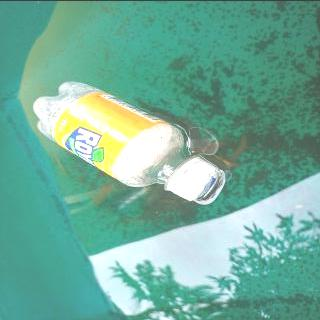bottle: (29, 76, 228, 205)
